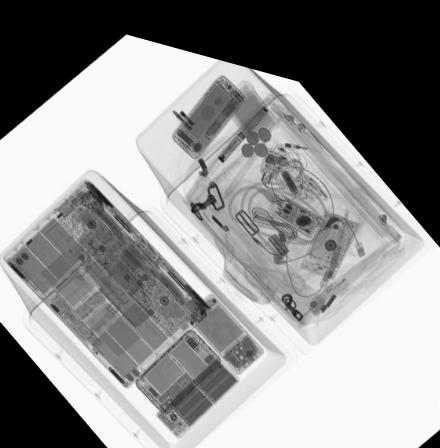Powerbank: (152, 341, 242, 431)
